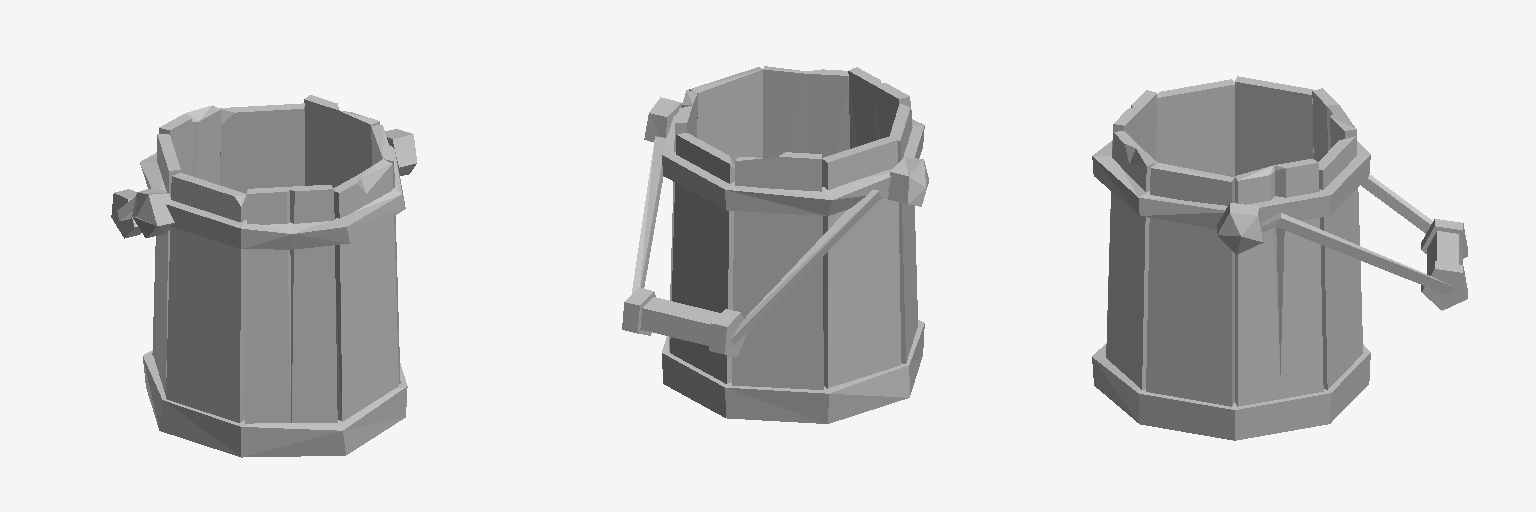
The model's file is Bucket.obj.
The picture shows the model from 3 angles: view 1: azimuth 30°, elevation 25°; view 2: azimuth 150°, elevation 25°; view 3: azimuth 270°, elevation 25°; orthographic projection.
Visible parts, largest first — view 1: Bucket; view 2: Bucket; view 3: Bucket.
Part boxes in pixels (left/top/right/bottom): Bucket: left=111, top=95, right=416, bottom=457; Bucket: left=622, top=66, right=928, bottom=423; Bucket: left=1092, top=76, right=1467, bottom=440.
Bounding box in the file's own units: 0.5545 × 0.4992 × 0.6494.